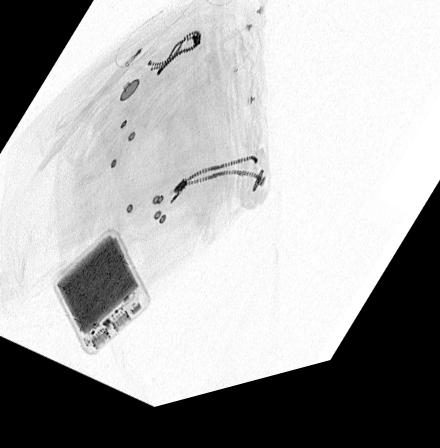Powerbank: (50, 233, 151, 362)
